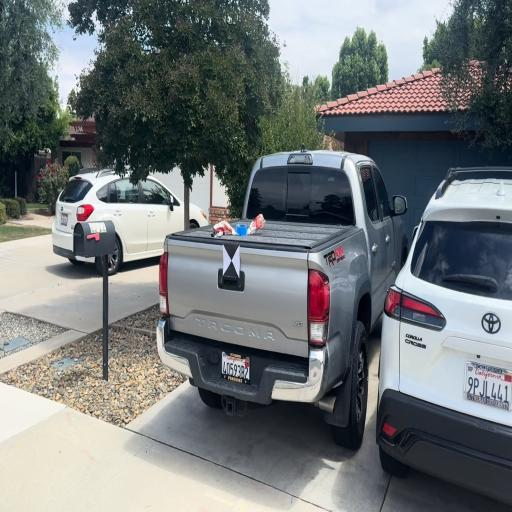target: (222, 244, 240, 277)
